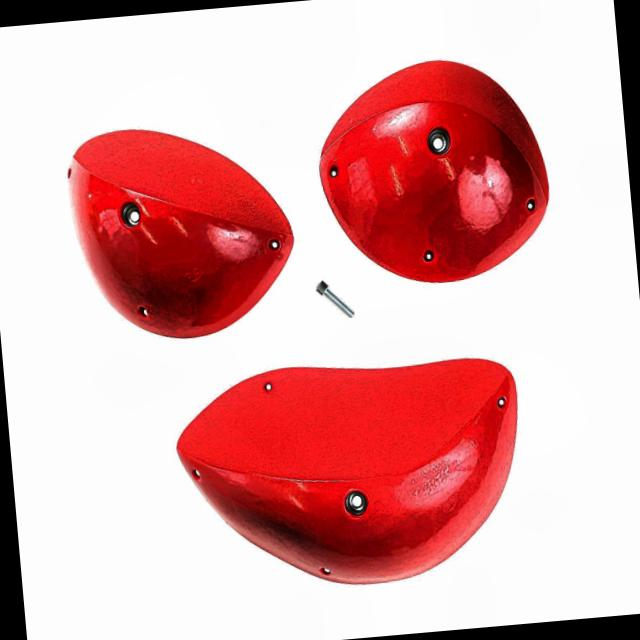Hold: (166, 346, 536, 606), (304, 48, 557, 296), (58, 115, 304, 352)
